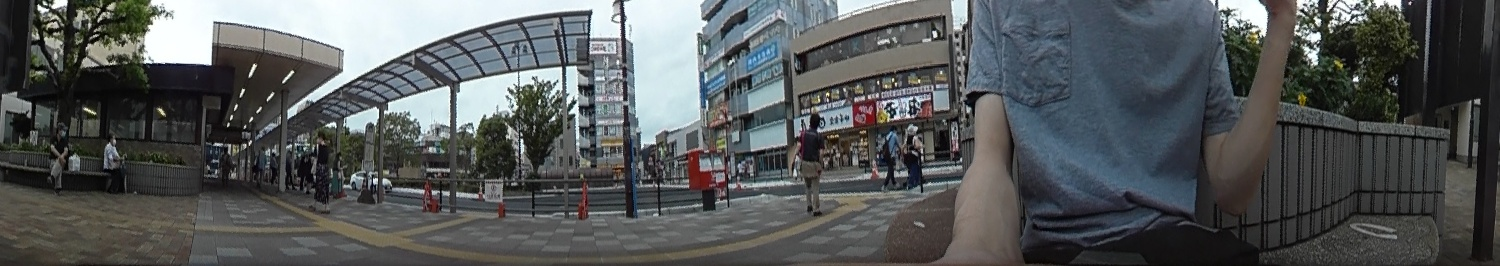difficult_person: (332, 151, 347, 196), (253, 146, 267, 189), (218, 146, 232, 184), (284, 149, 293, 191), (305, 154, 314, 186)
person: (796, 111, 826, 212), (44, 120, 70, 191), (311, 130, 330, 212), (903, 127, 925, 190), (882, 127, 903, 190), (104, 135, 126, 194)
